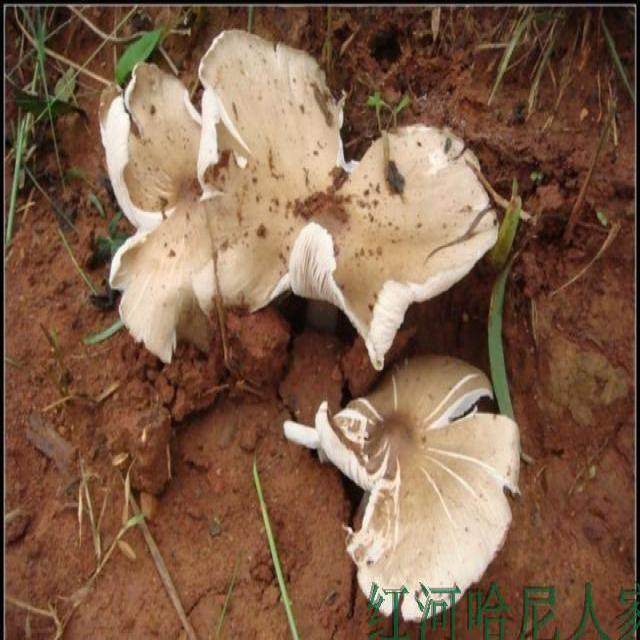Collybia albuminosa: (87, 29, 507, 369), (283, 357, 521, 618)
